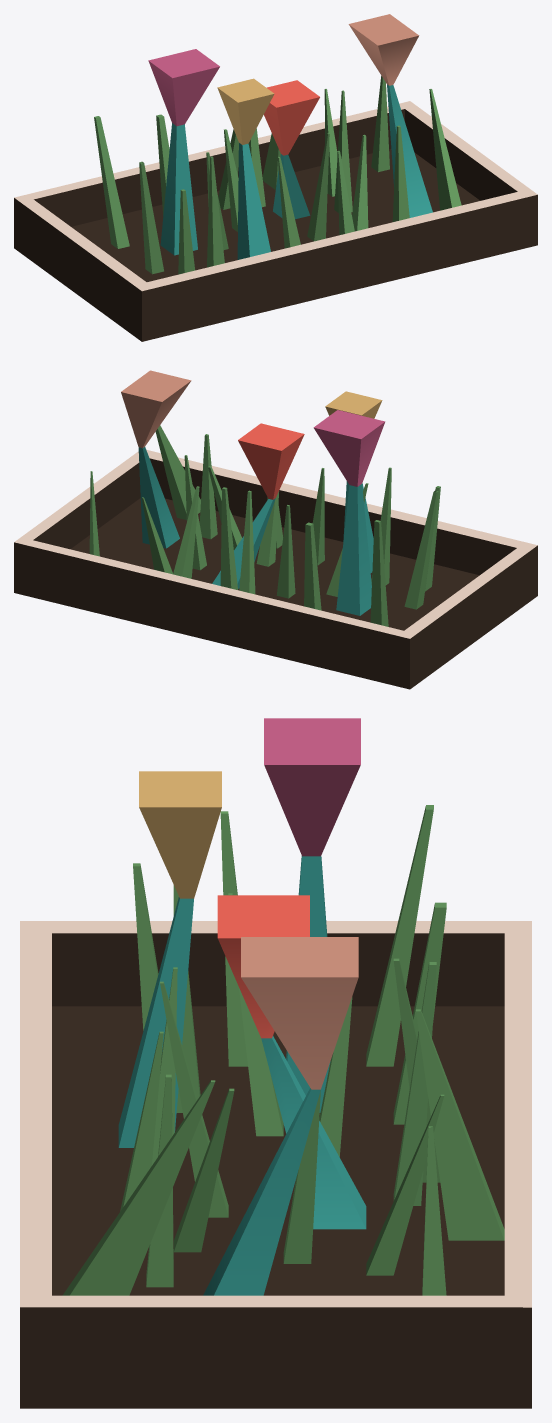
Rendered from optimizedflowerbed.fbx.
The picture shows the model from 3 angles, top to bottom: view 1: azimuth 30°, elevation 25°; view 2: azimuth 150°, elevation 25°; view 3: azimuth 270°, elevation 25°; orthographic projection. The views are drawn at different scales.
Visible parts, largest first — view 1: pCube1; view 2: pCube1; view 3: pCube1.
Boxes of the visible parts, x1=… form: pCube1: x1=14, y1=14, x2=537, y2=341; pCube1: x1=14, y1=370, x2=537, y2=689; pCube1: x1=20, y1=718, x2=531, y2=1408.
Bounding box in the file's own units: 66.54 × 31.58 × 37.24.
1 material, 1 textured.
